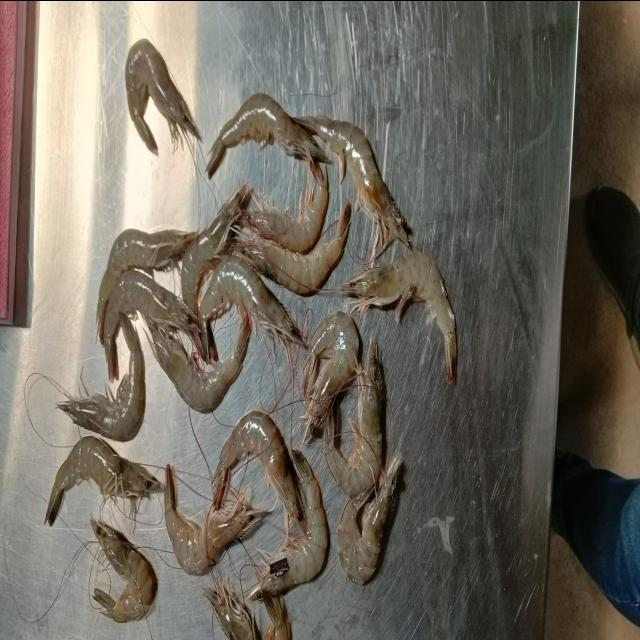shrimp: (342, 250, 456, 388), (294, 112, 410, 245), (232, 194, 351, 296), (198, 251, 307, 362), (248, 449, 327, 602), (97, 227, 199, 344), (55, 310, 146, 441), (181, 184, 248, 359), (212, 410, 307, 533), (164, 462, 265, 576), (104, 267, 202, 382), (43, 434, 162, 526), (147, 311, 252, 415), (205, 91, 334, 175), (125, 37, 202, 155), (325, 339, 381, 499), (337, 457, 401, 583), (300, 310, 359, 443), (242, 164, 328, 251), (90, 519, 154, 622)
